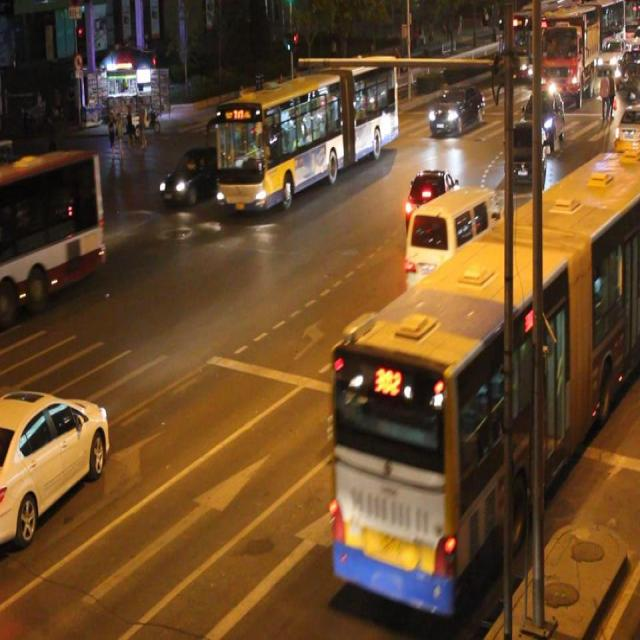car: (1, 387, 110, 536), (404, 164, 460, 239), (159, 147, 219, 205), (427, 84, 483, 135), (503, 120, 544, 186)
truck: (403, 188, 500, 298)
van: (333, 157, 640, 617), (216, 59, 398, 203), (0, 149, 106, 313)
